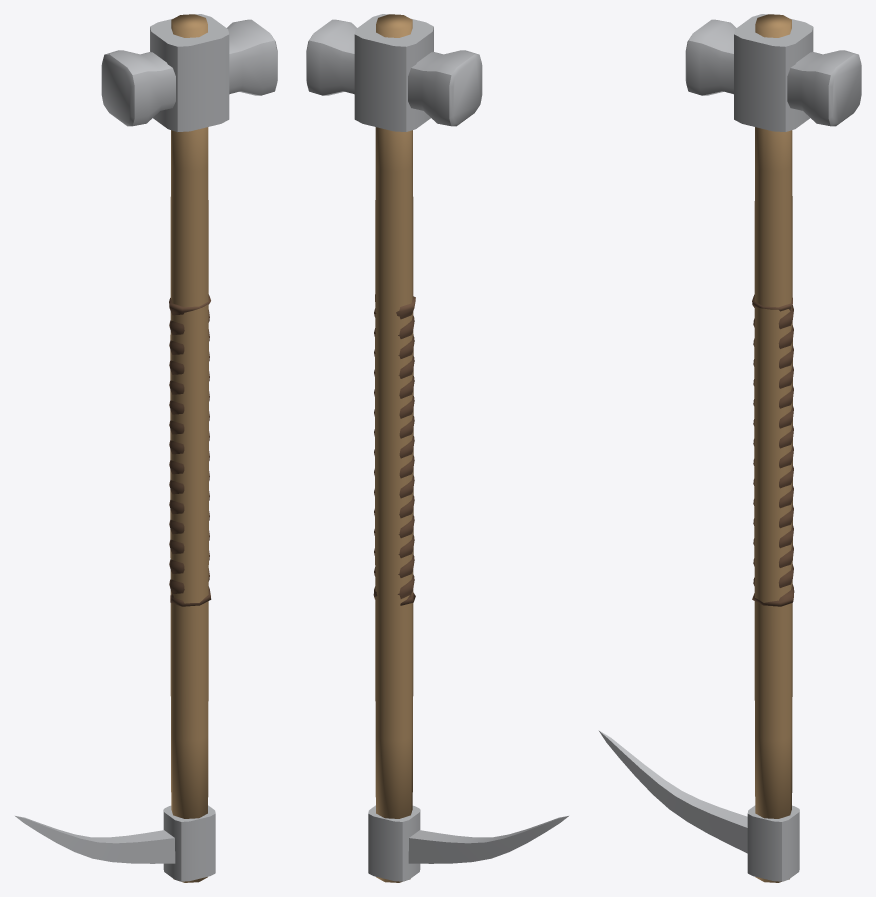
Rendered from gnome-hooked-hammer.glb.
3 renders of one model, left to right at view 1: azimuth 30°, elevation 25°; view 2: azimuth 150°, elevation 25°; view 3: azimuth 330°, elevation 25°, orthographic.
Visible parts, largest first — view 1: gnome-hooked-hammer; view 2: gnome-hooked-hammer; view 3: gnome-hooked-hammer.
Part boxes in pixels (x1,y1,x2,y2): gnome-hooked-hammer: (15,14,277,882); gnome-hooked-hammer: (306,14,568,882); gnome-hooked-hammer: (598,14,861,882).
Size of the model in its own units: 0.61 by 2 by 0.1406.
